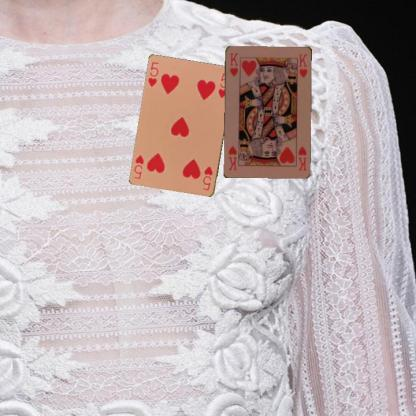5h: (200, 163, 215, 192), (146, 60, 160, 89)
Kh: (296, 143, 308, 172), (227, 51, 239, 78)
